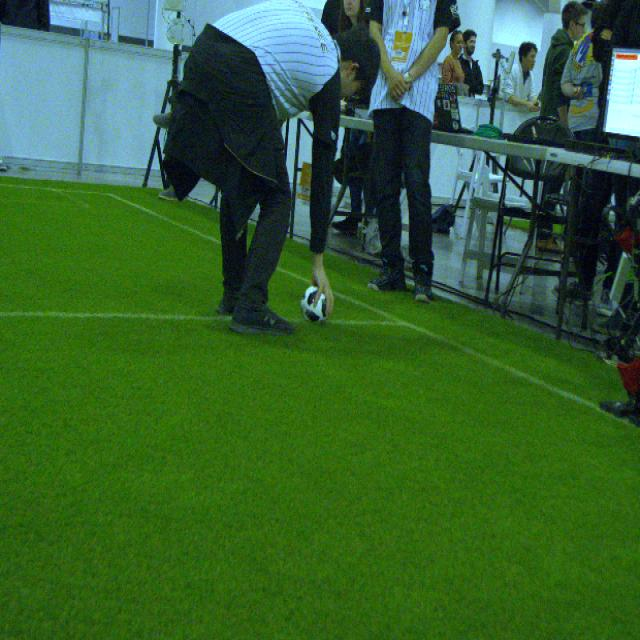ball: (302, 282, 332, 326)
